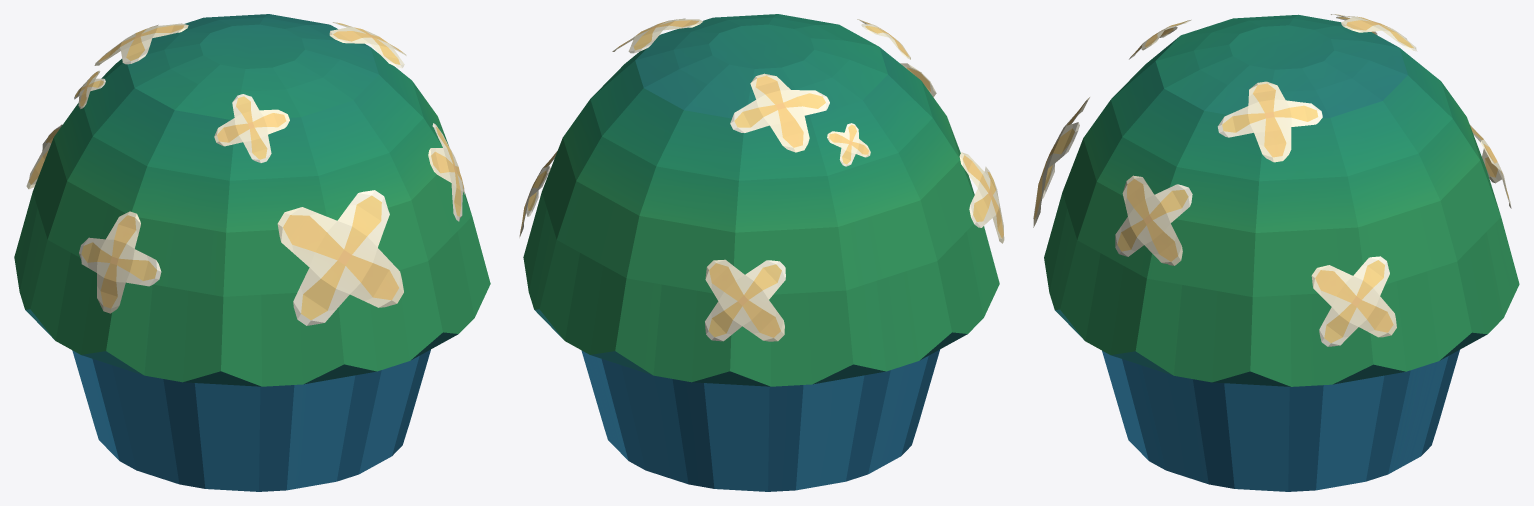
The model's file is Garden_ShrubPlanter01.fbx.
3 views of the same model, side by side, from view 1: azimuth 30°, elevation 25°; view 2: azimuth 150°, elevation 25°; view 3: azimuth 270°, elevation 25° (orthographic).
Visible parts, largest first — view 1: Cylinder.207; view 2: Cylinder.207; view 3: Cylinder.207.
Boxes of the visible parts, left/top/right/bottom form: Cylinder.207: left=14, top=14, right=490, bottom=491; Cylinder.207: left=519, top=14, right=1004, bottom=491; Cylinder.207: left=1033, top=14, right=1519, bottom=491.
Size of the model in its own units: 58.48 by 51.84 by 59.78.
